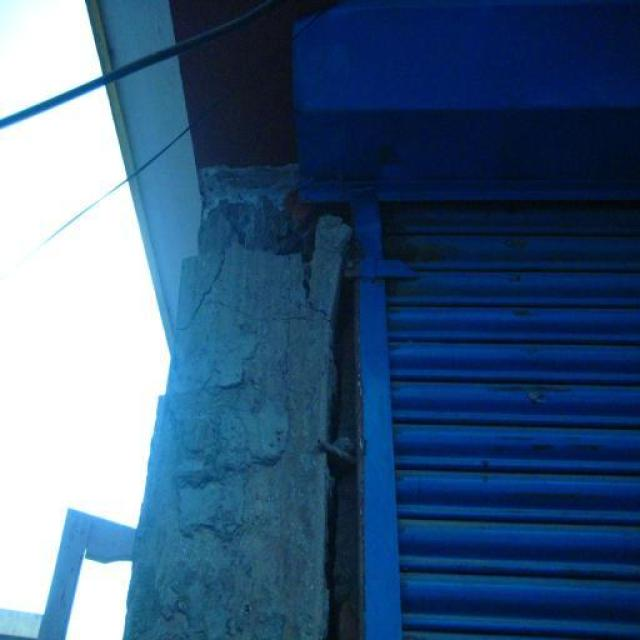D10: (125, 166, 351, 638)
